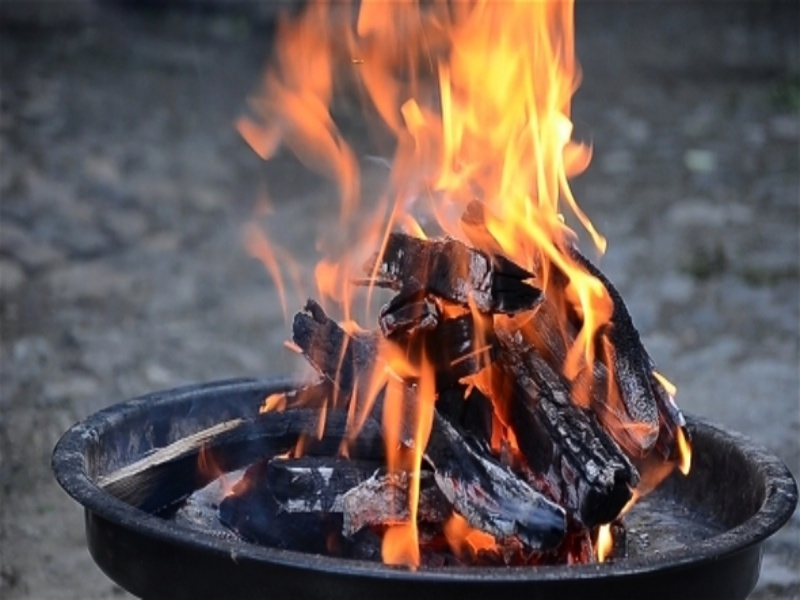fire: (367, 1, 612, 570), (650, 364, 694, 475)
